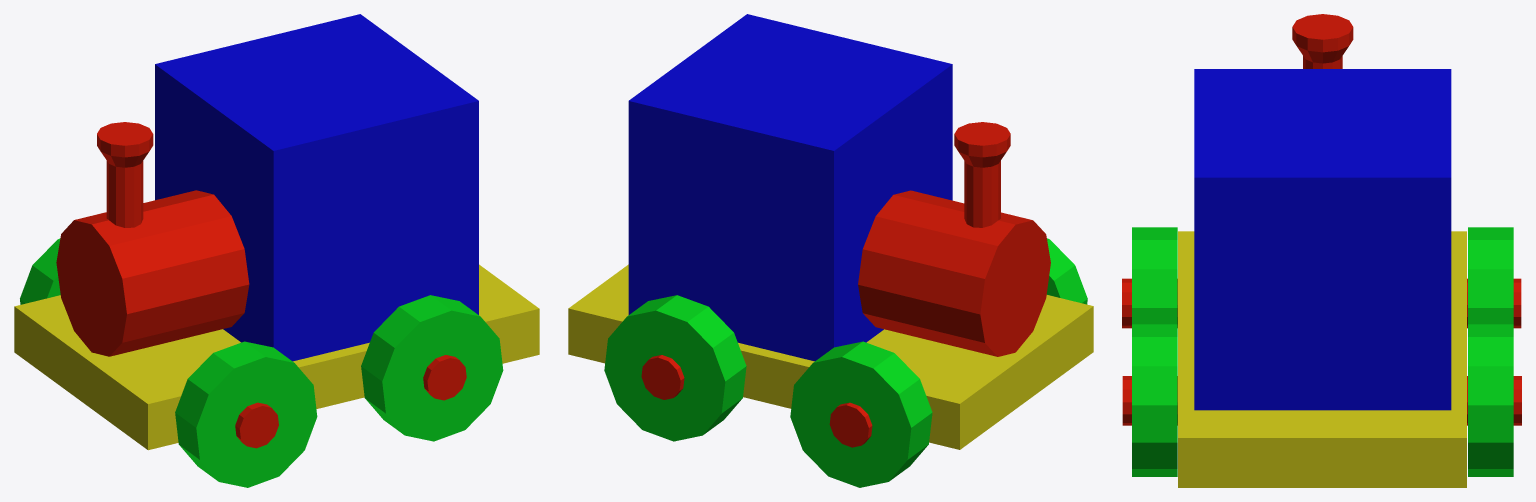
File: train.fbx
3 renders of one model, left to right at view 1: azimuth 30°, elevation 25°; view 2: azimuth 150°, elevation 25°; view 3: azimuth 270°, elevation 25°, orthographic. The views are drawn at different scales.
Visible parts, largest first — view 1: body, head, base, wheelRL, wheelFL, chimney, wheelFR, axelF, axleR; view 2: body, head, base, wheelFR, wheelRR, chimney, wheelFL, axelF, axleR; view 3: body, base, wheelRL, wheelRR, wheelFR, wheelFL, chimney, axelF, axleR.
Part boxes in pixels (<box>): body: <box>155,14,478,361</box>; head: <box>56,190,249,356</box>; base: <box>14,264,539,450</box>; wheelRL: <box>361,295,503,441</box>; wheelFL: <box>175,341,317,487</box>; chimney: <box>97,122,153,227</box>; wheelFR: <box>20,238,60,304</box>; axelF: <box>235,402,278,448</box>; axleR: <box>423,355,466,400</box>; body: <box>628,14,952,361</box>; head: <box>858,190,1050,356</box>; base: <box>568,264,1093,449</box>; wheelFR: <box>790,341,932,487</box>; wheelRR: <box>604,295,746,441</box>; chimney: <box>954,122,1010,227</box>; wheelFL: <box>1046,238,1087,304</box>; axelF: <box>829,402,872,447</box>; axleR: <box>641,355,684,399</box>; body: <box>1194,69,1451,410</box>; base: <box>1178,231,1466,487</box>; wheelRL: <box>1132,324,1177,476</box>; wheelRR: <box>1468,324,1513,476</box>; wheelFR: <box>1468,227,1513,324</box>; wheelFL: <box>1132,227,1177,324</box>; chimney: <box>1292,14,1353,68</box>; axelF: <box>1122,278,1521,328</box>; axleR: <box>1122,376,1521,425</box>.
Bounding box in the file's own units: 640 × 473 × 523.
